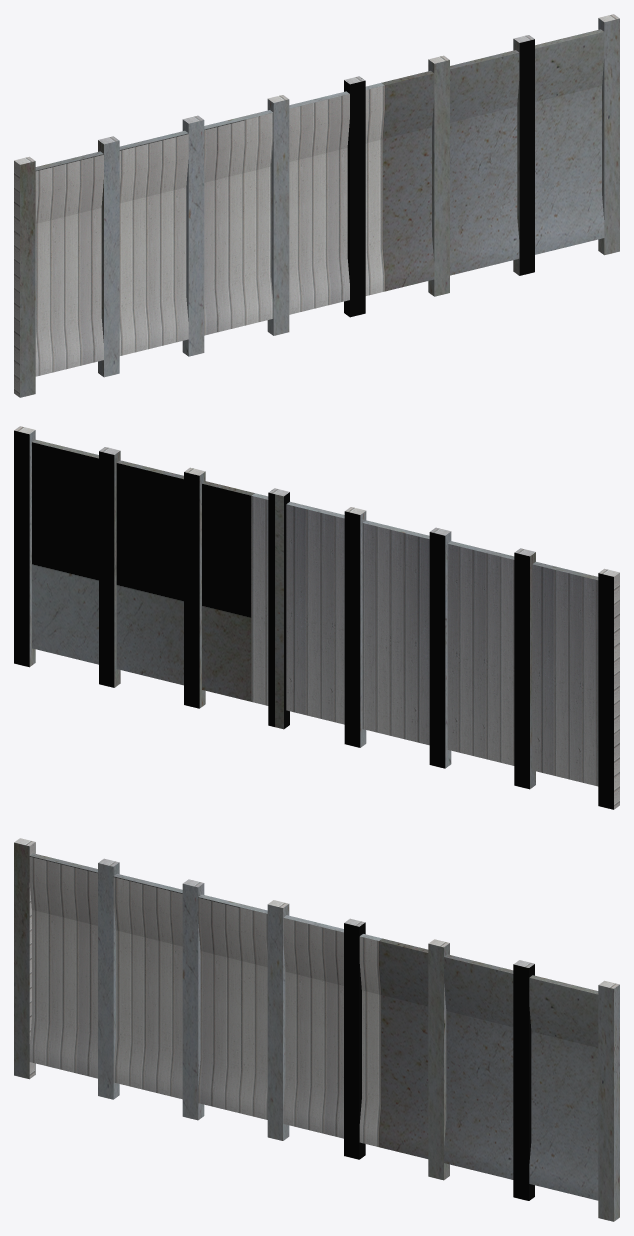
Rendered from wall.obj.
The picture shows the model from 3 angles, top to bottom: view 1: azimuth 30°, elevation 25°; view 2: azimuth 150°, elevation 25°; view 3: azimuth 330°, elevation 25°; orthographic projection.
Visible parts, largest first — view 1: wall.001; view 2: wall.001; view 3: wall.001.
Boxes of the visible parts, x1,y1,x2,y2 form: wall.001: [14, 14, 619, 397]; wall.001: [14, 426, 619, 809]; wall.001: [14, 838, 619, 1221].
Bounding box in the file's own units: 10.62 × 3.94 × 0.1864.
